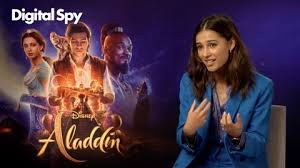middle_eastern_Female: (192, 16, 247, 82)
